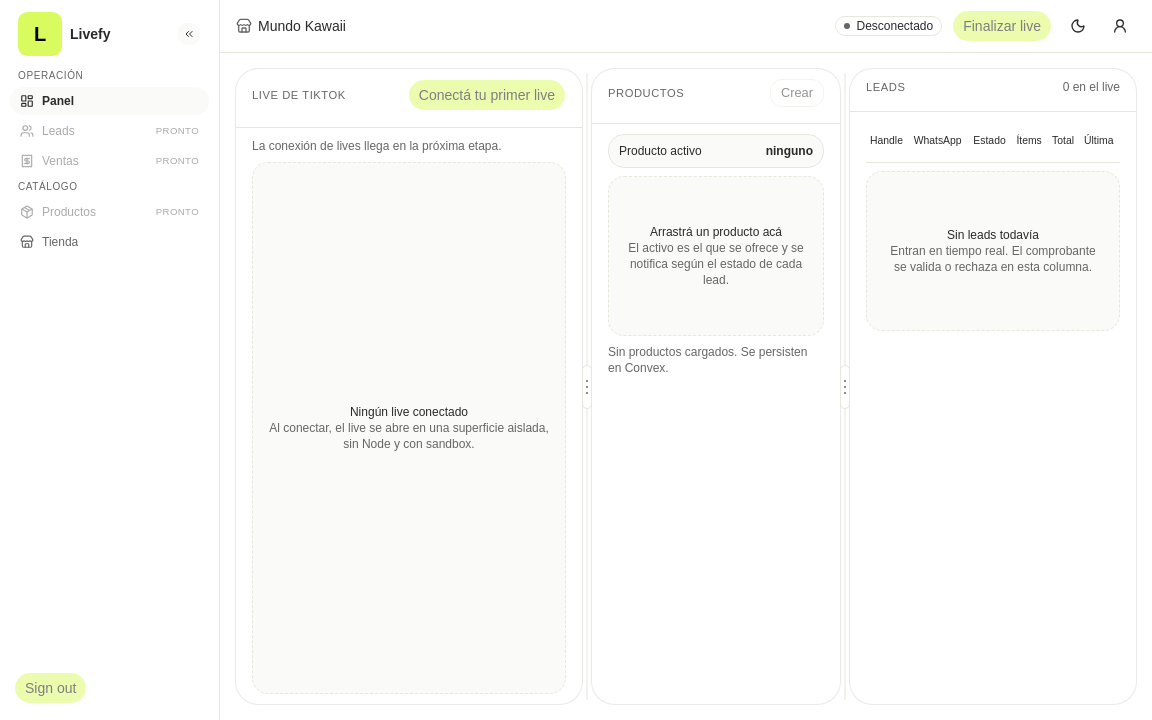
it: panel — dashboard chrome › collapses the sidebar to an icon rail that keeps every item named, and expands it back
Expected: the text "Leads" is shown, [42,123,75,139]
Expected: the text "Operación" is shown, [18,70,83,81]
Click the button named "Contraer barra lateral". click: (189,34)
box: [177,22,201,46]
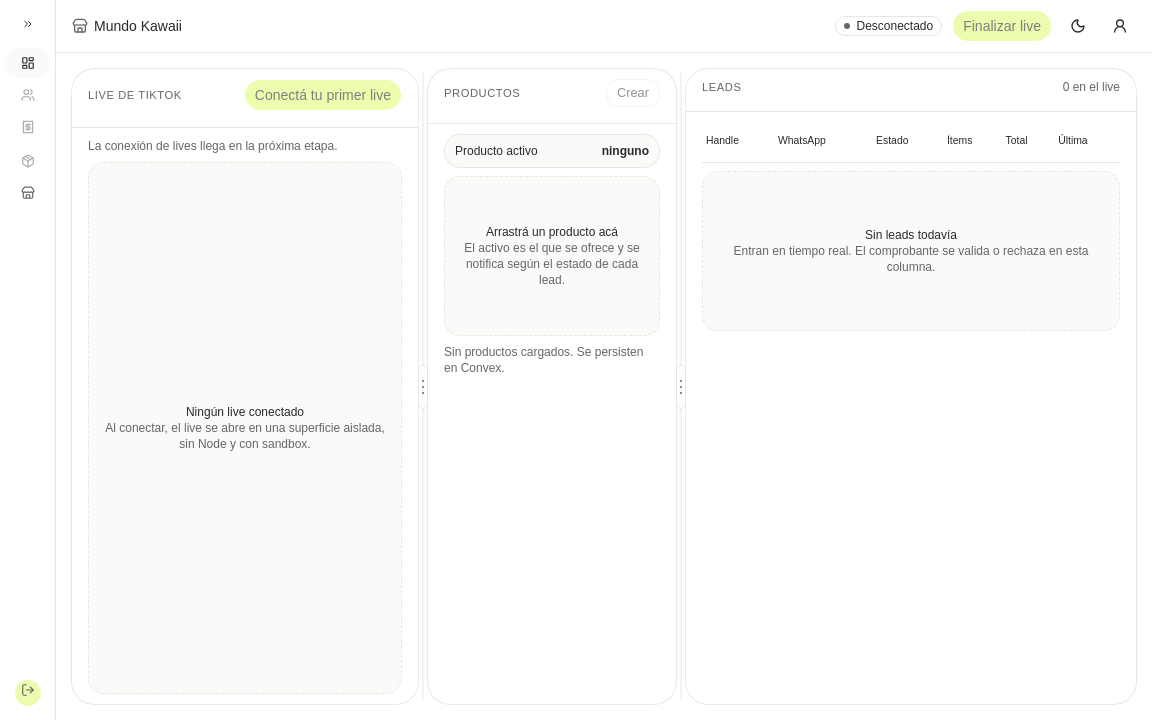
Expected: the button named "Panel" is shown, [4,48,51,78]
Expected: the text "Operación" is gone
Click the button named "Expandir barra lateral". click: (28,24)
box: [16,12,40,36]
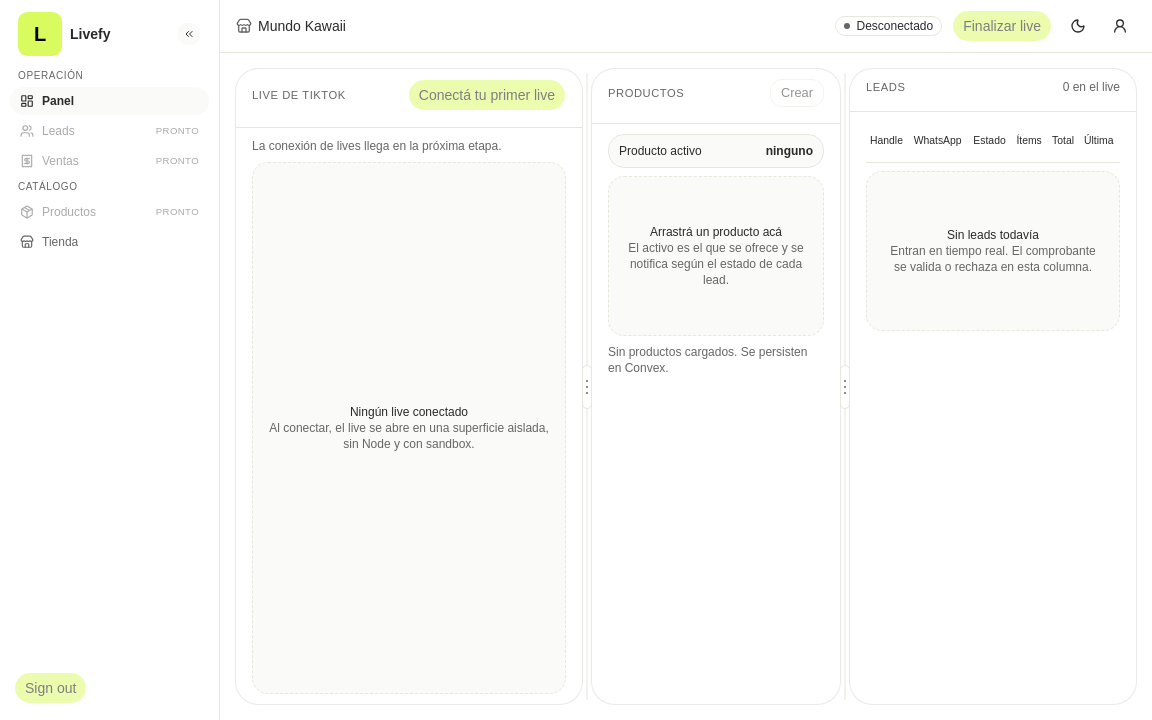
Expected: the text "Leads" is shown, [42,123,75,139]
Expected: the text "Operación" is shown, [18,70,83,81]
